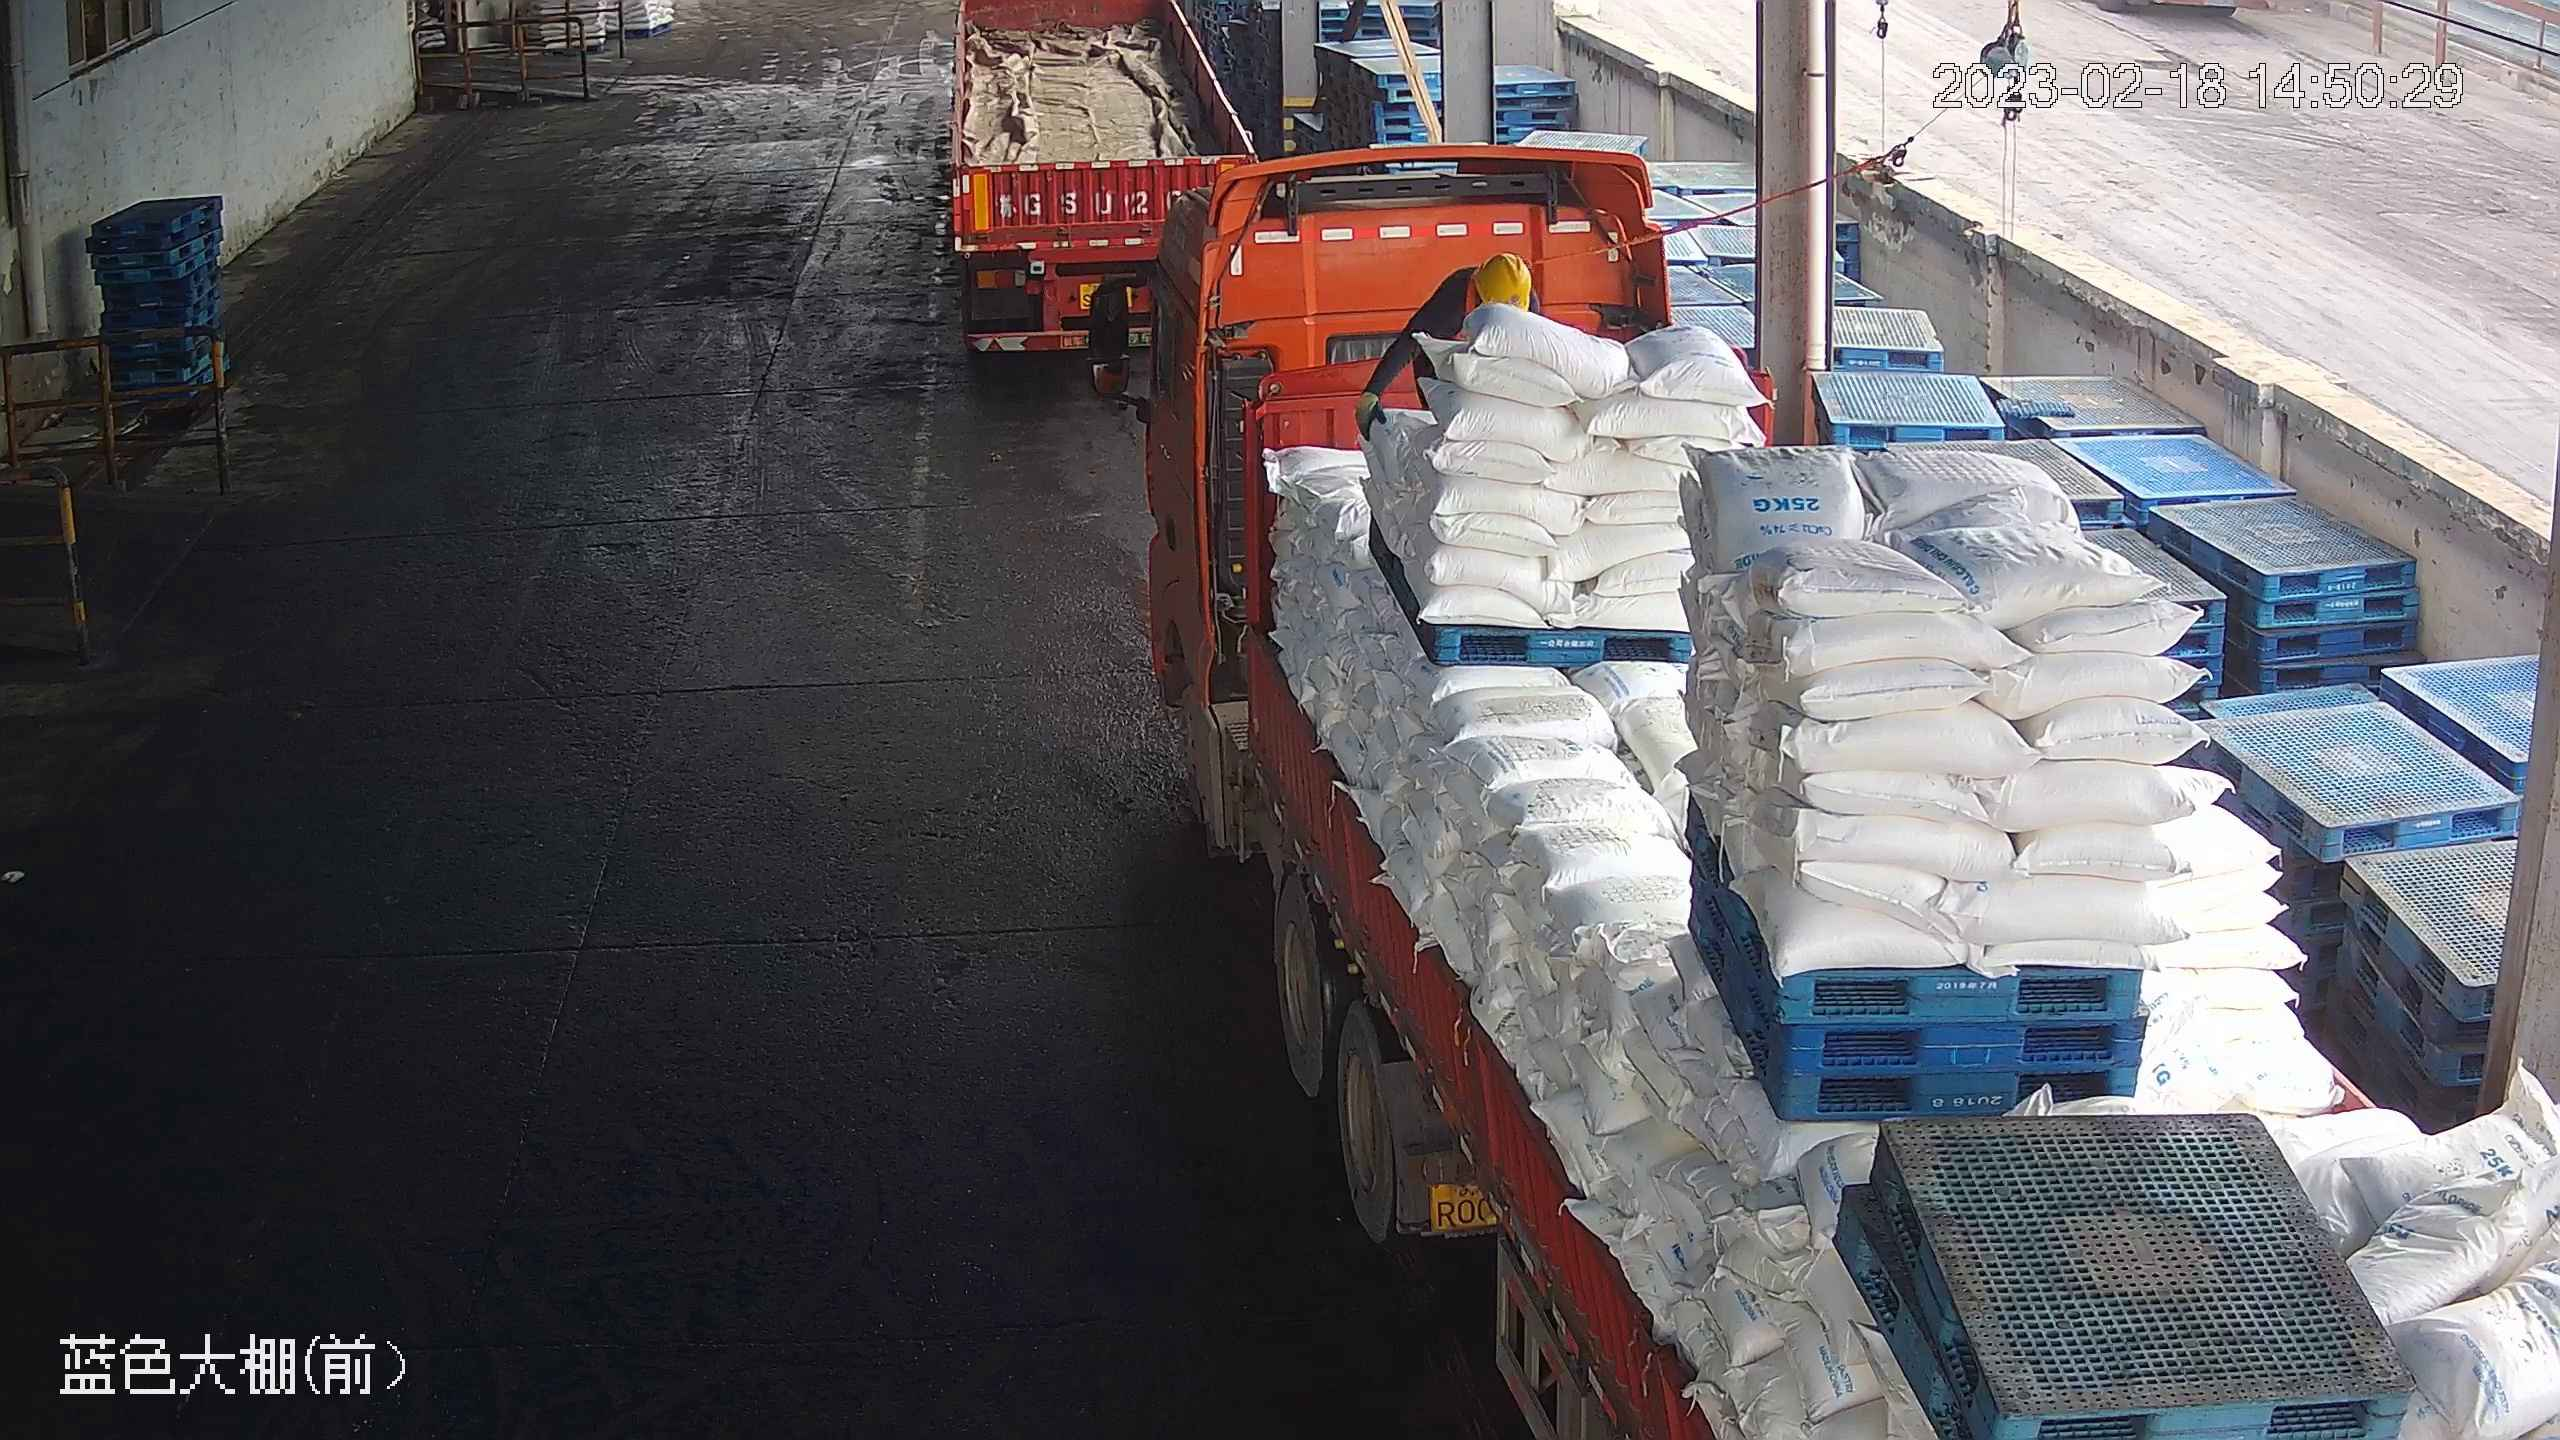helmet: (1473, 251, 1531, 309)
truck: (1145, 162, 2558, 1440), (935, 4, 1320, 454)
